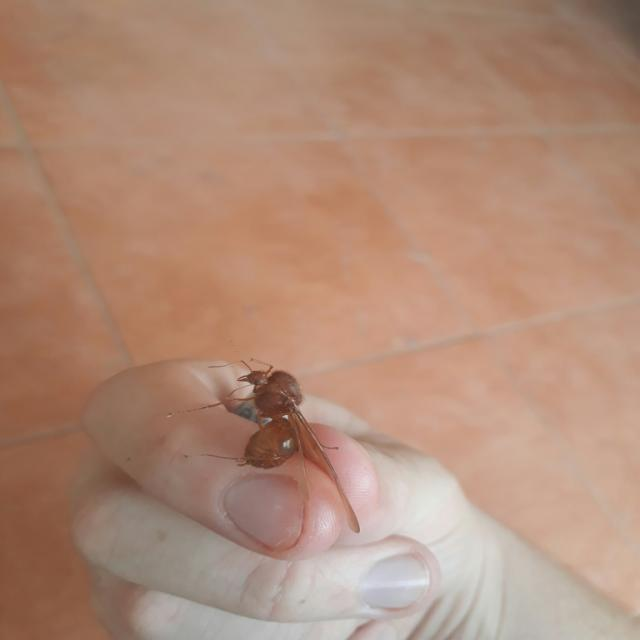Alive-Male-Alate: (165, 357, 361, 534)
